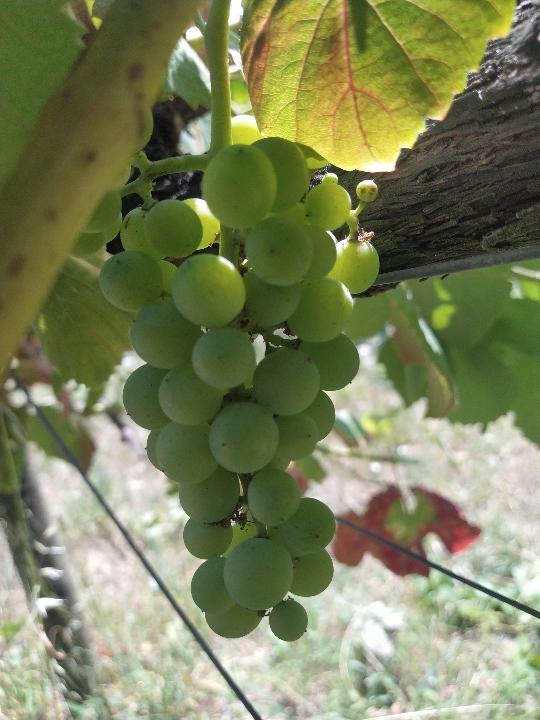grape: (71, 116, 381, 641)
